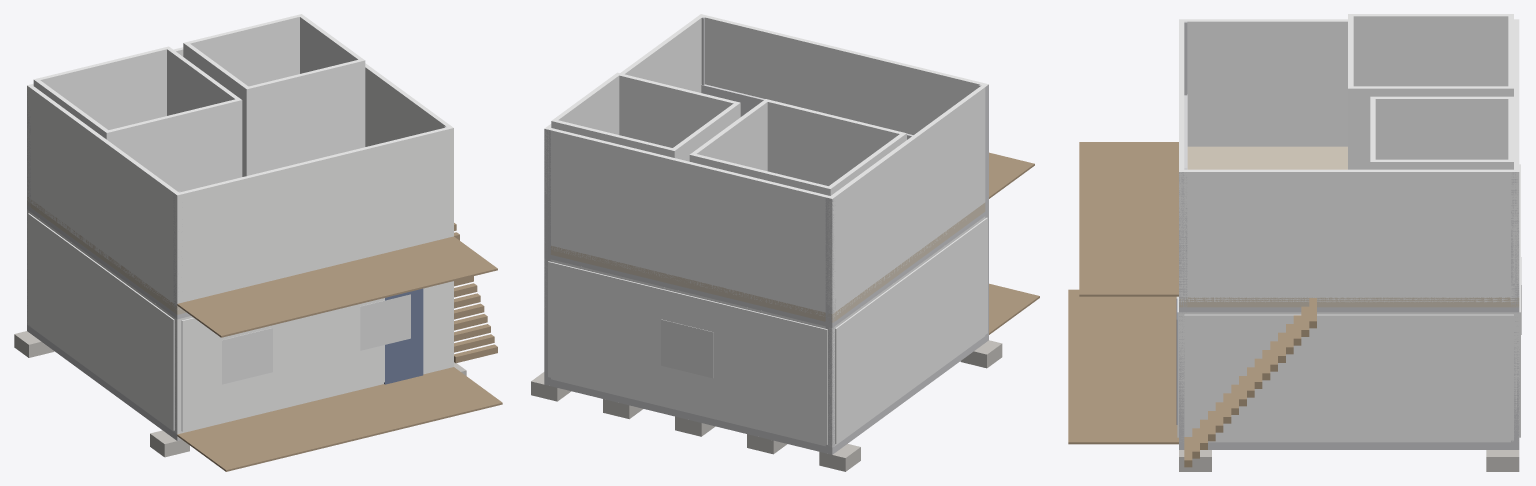
File: Duplex-20-TerraceDeck-LOD0.glb
3 renders of one model, left to right at view 1: azimuth 30°, elevation 25°; view 2: azimuth 150°, elevation 25°; view 3: azimuth 270°, elevation 25°, orthographic. The views are drawn at different scales.
Visible parts, largest first — view 1: ExteriorShellUpper, ExteriorPanelsStandard, StudyUpper, BedroomUpper, TerraceDeck, BalconyUpper, WindowsStandard, ExteriorShell, StaircaseExternal, BalconyGround, EntryDoor, FoundationBlocks (+4 smaller); view 2: ExteriorShellUpper, ExteriorPanelsStandard, BedroomUpper, StudyUpper, VerticalStructure, FloorUpper, FoundationBlocks, BaseFrame, ExteriorShell, WindowsStandard, TopFrame, TerraceDeck (+3 smaller); view 3: ExteriorShellUpper, ExteriorPanelsStandard, TerraceDeck, BalconyUpper, BedroomUpper, StudyUpper, FloorUpper, BalconyGround, StaircaseExternal, VerticalStructure, ExteriorShell, BaseFrame (+2 smaller).
Boxes of the visible parts, <box> form: ExteriorShellUpper: <box>27,47,453,309</box>; ExteriorPanelsStandard: <box>28,213,450,431</box>; StudyUpper: <box>183,14,365,176</box>; BedroomUpper: <box>33,46,242,191</box>; TerraceDeck: <box>177,367,502,471</box>; BalconyUpper: <box>177,236,497,337</box>; WindowsStandard: <box>222,294,410,384</box>; ExteriorShell: <box>27,209,453,434</box>; StaircaseExternal: <box>454,223,497,363</box>; BalconyGround: <box>178,368,453,460</box>; EntryDoor: <box>384,288,423,384</box>; FoundationBlocks: <box>14,331,466,457</box>; ExteriorShellUpper: <box>544,14,988,317</box>; ExteriorPanelsStandard: <box>548,217,987,444</box>; BedroomUpper: <box>689,99,906,195</box>; StudyUpper: <box>551,72,740,161</box>; VerticalStructure: <box>544,17,988,447</box>; FloorUpper: <box>544,202,985,322</box>; FoundationBlocks: <box>531,340,1002,471</box>; BaseFrame: <box>544,333,988,454</box>; ExteriorShell: <box>544,216,985,447</box>; WindowsStandard: <box>661,319,713,378</box>; TopFrame: <box>545,210,987,327</box>; TerraceDeck: <box>989,283,1039,334</box>; ExteriorShellUpper: <box>1179,19,1519,302</box>; ExteriorPanelsStandard: <box>1177,164,1520,440</box>; TerraceDeck: <box>1068,289,1178,444</box>; BalconyUpper: <box>1079,142,1178,296</box>; BedroomUpper: <box>1348,14,1513,169</box>; StudyUpper: <box>1370,96,1513,169</box>; FloorUpper: <box>1179,146,1519,307</box>; BalconyGround: <box>1096,296,1178,444</box>; StaircaseExternal: <box>1184,298,1316,467</box>; VerticalStructure: <box>1179,21,1519,442</box>; ExteriorShell: <box>1179,312,1519,442</box>; BaseFrame: <box>1179,442,1519,449</box>.
Size of the model in its own units: 7.94 by 6 by 8.2.
